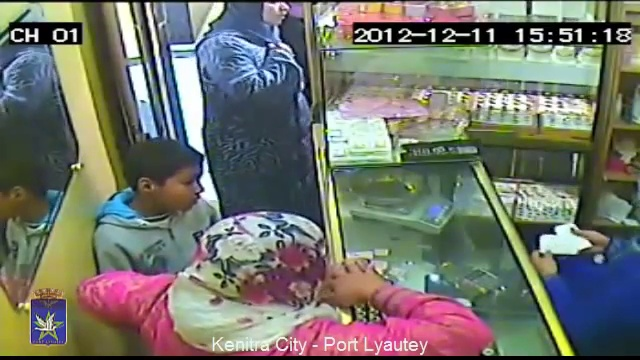face: (151, 157, 205, 210), (258, 2, 289, 22)
